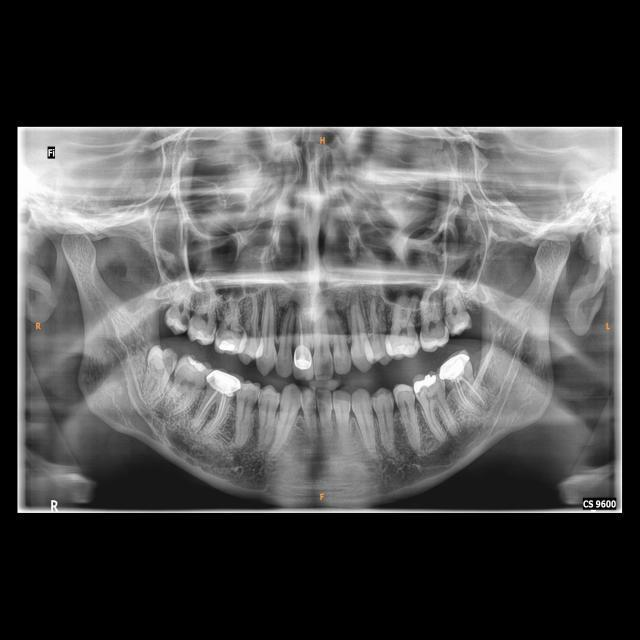dentin-curugu: (172, 312, 195, 334)
dolgu: (210, 332, 243, 353), (414, 374, 443, 393)
kanal-tedavisi: (452, 374, 486, 411), (198, 390, 226, 422), (294, 307, 309, 345)
kaplama: (207, 368, 241, 396), (437, 352, 470, 380), (294, 345, 312, 374)
